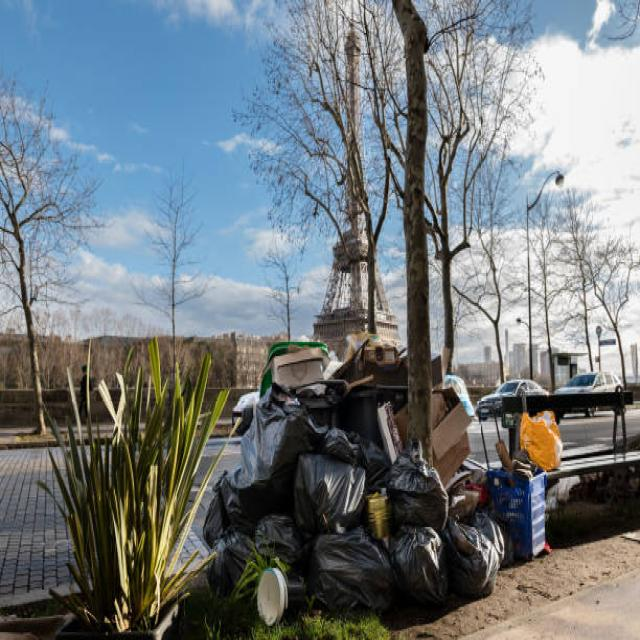cardboard: (273, 336, 398, 412), (402, 396, 482, 490)
metal: (358, 490, 402, 556)
plastic: (490, 458, 560, 562), (247, 568, 318, 623)
trash: (241, 406, 366, 563), (398, 529, 501, 596)
